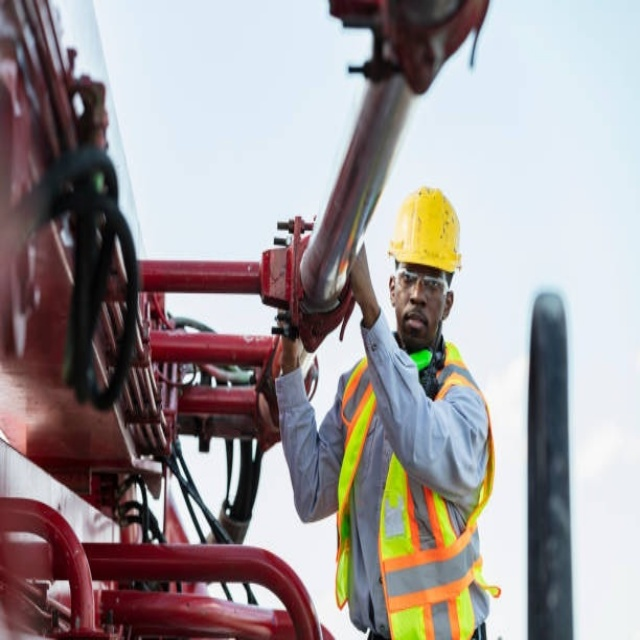Gafas: (394, 264, 449, 295)
Sin_mascara: (399, 307, 427, 342)
